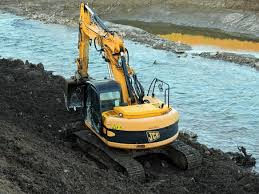excavator: (67, 2, 202, 182)
